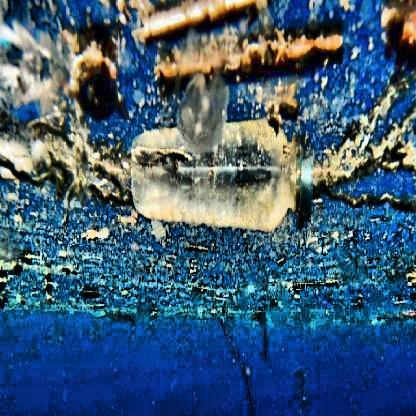Plastic wastes: (127, 118, 314, 237)
